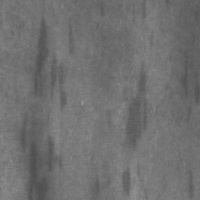inclusion: (24, 7, 69, 114), (18, 112, 59, 199), (118, 58, 150, 156), (173, 51, 198, 126), (117, 163, 137, 199), (62, 17, 78, 59), (183, 170, 198, 198)
